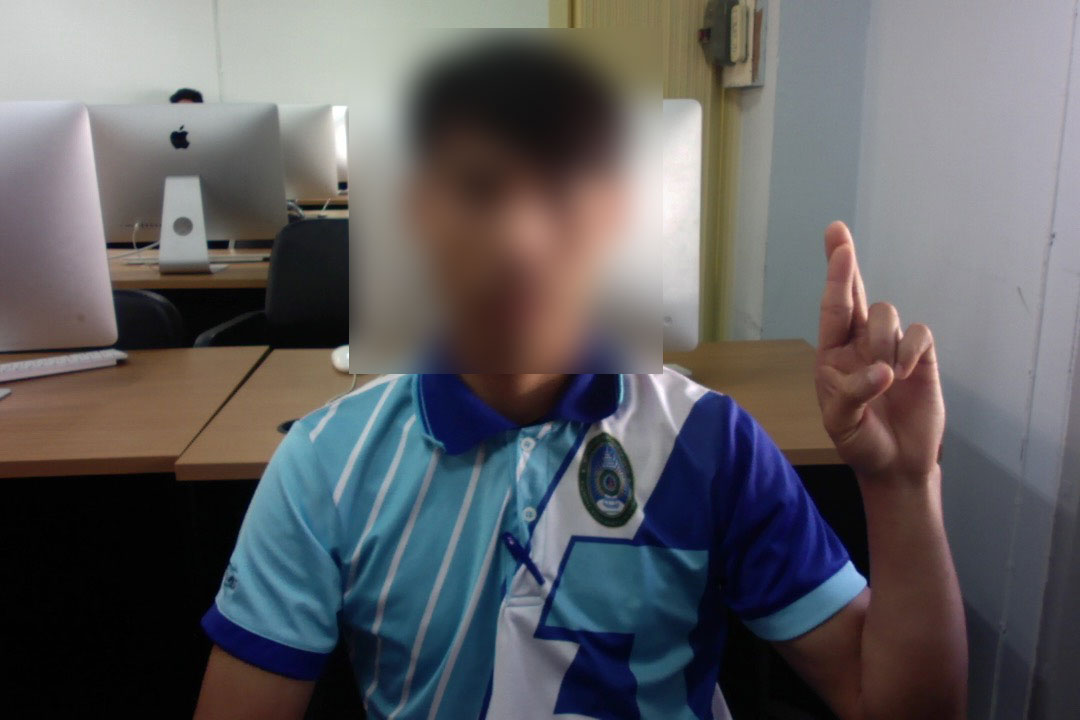rao: (802, 213, 968, 481)
